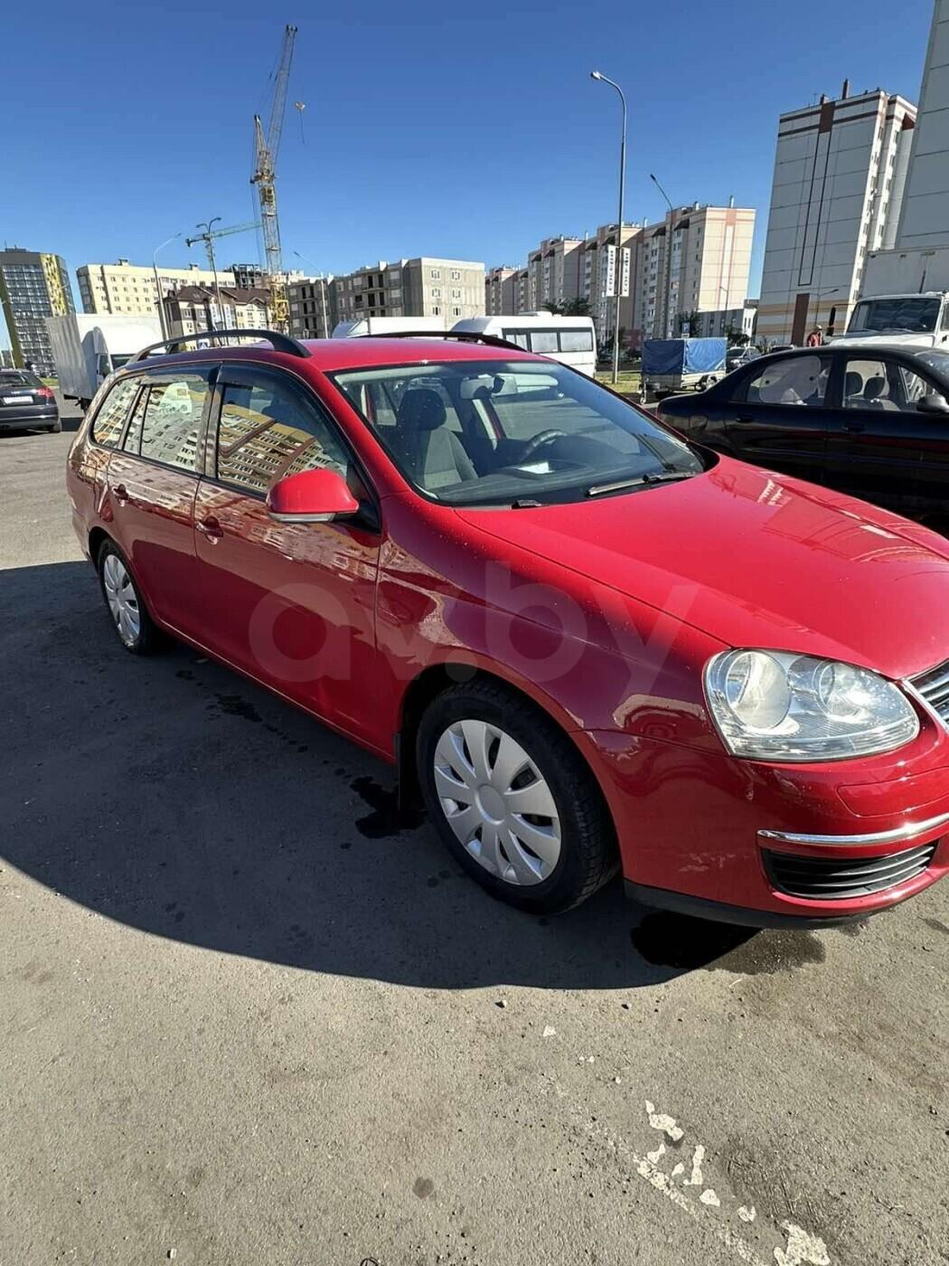Golf_2003-2009: (72, 331, 949, 937)
